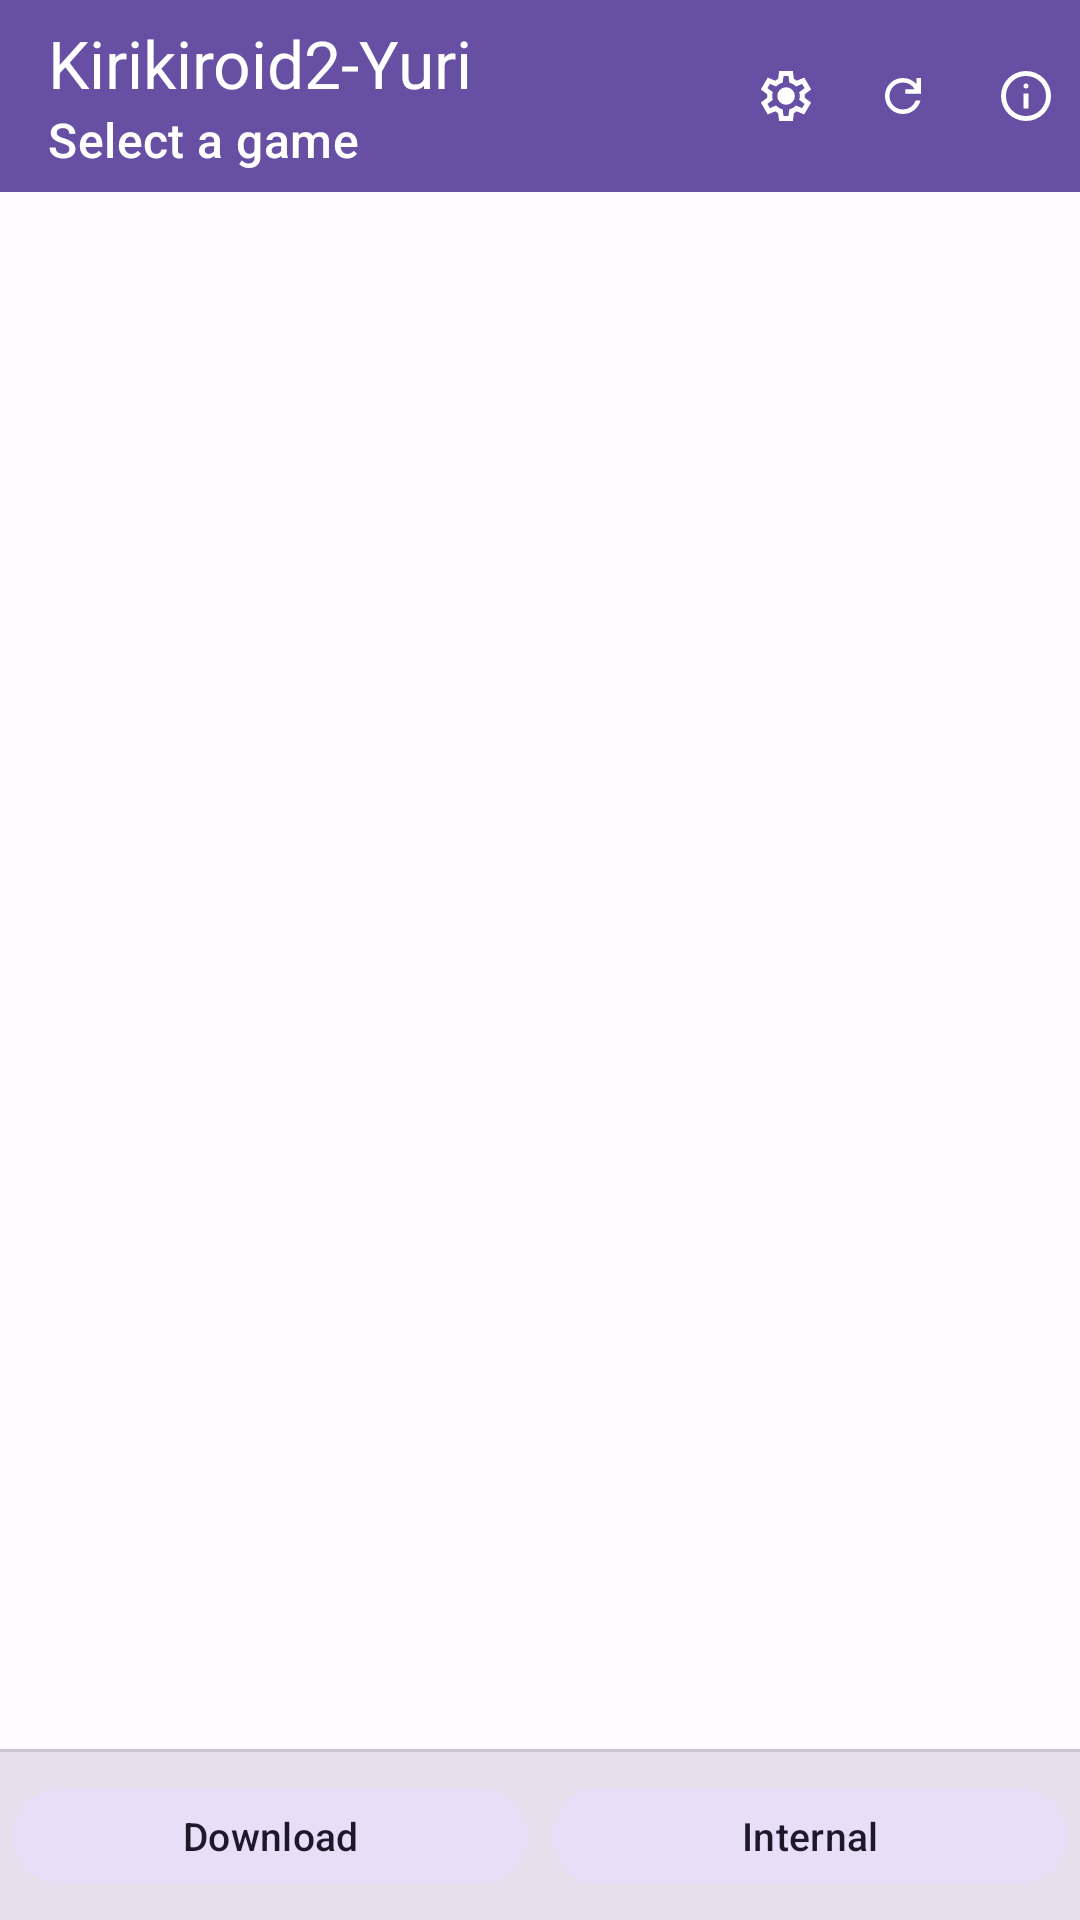

Where icons sit on this 1080*1920 app screen, as Rect(x1, y1, x2, y2):
info: Rect(1001, 71, 1051, 121)
refresh: Rect(885, 78, 921, 114)
settings: Rect(761, 71, 811, 121)
